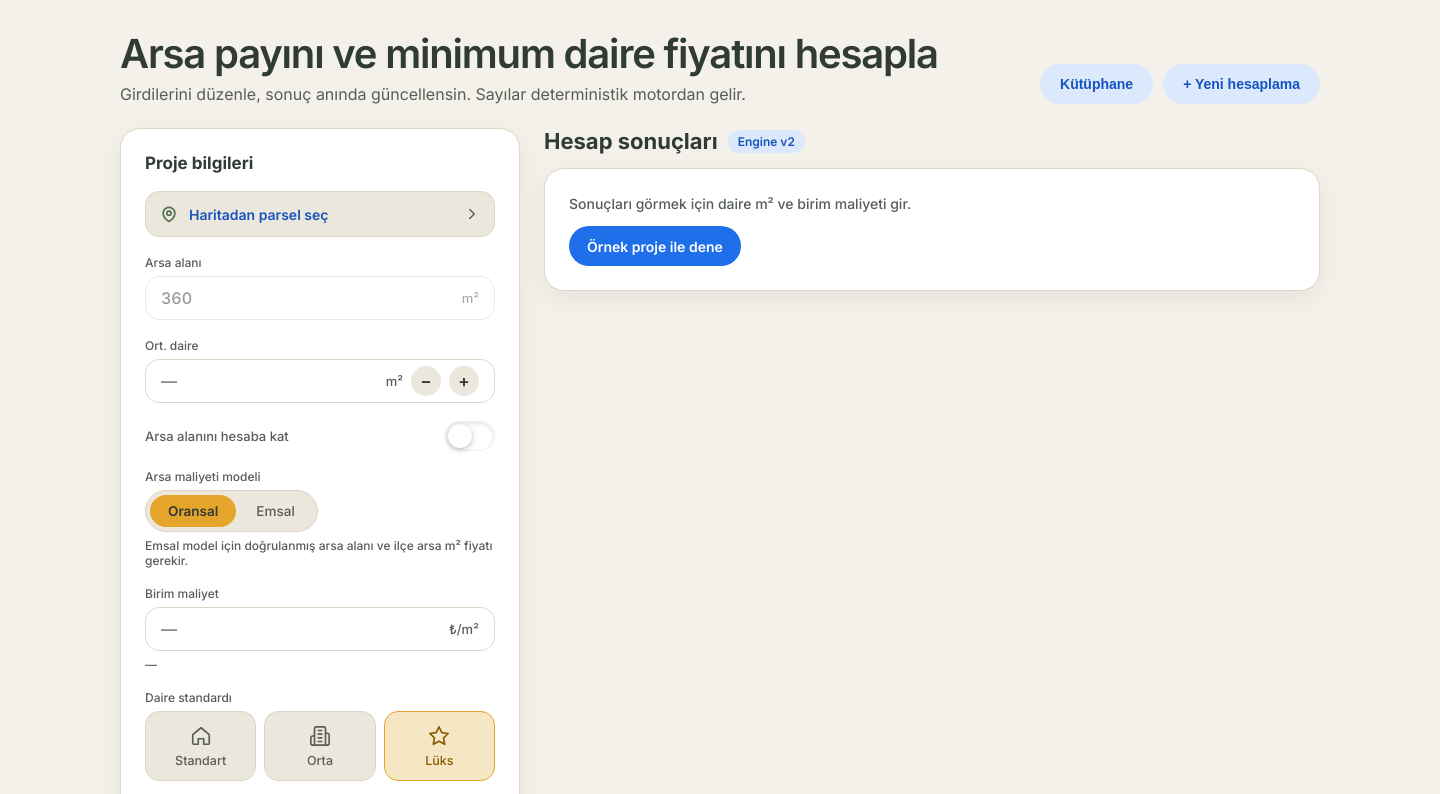
it: /hesapla — masaüstü Maksimum Sürdürülebilir Arsa Payı (denetim bulgusu C6) › x_max negatifse ("bu fiyata proje mümkün değil") yüzde yerine anlaşılır bir uyarı gösterir, cam sayı DEĞİL
Click the button "Örnek proje ile dene".
click(655, 246)  # box [569,226,741,266]
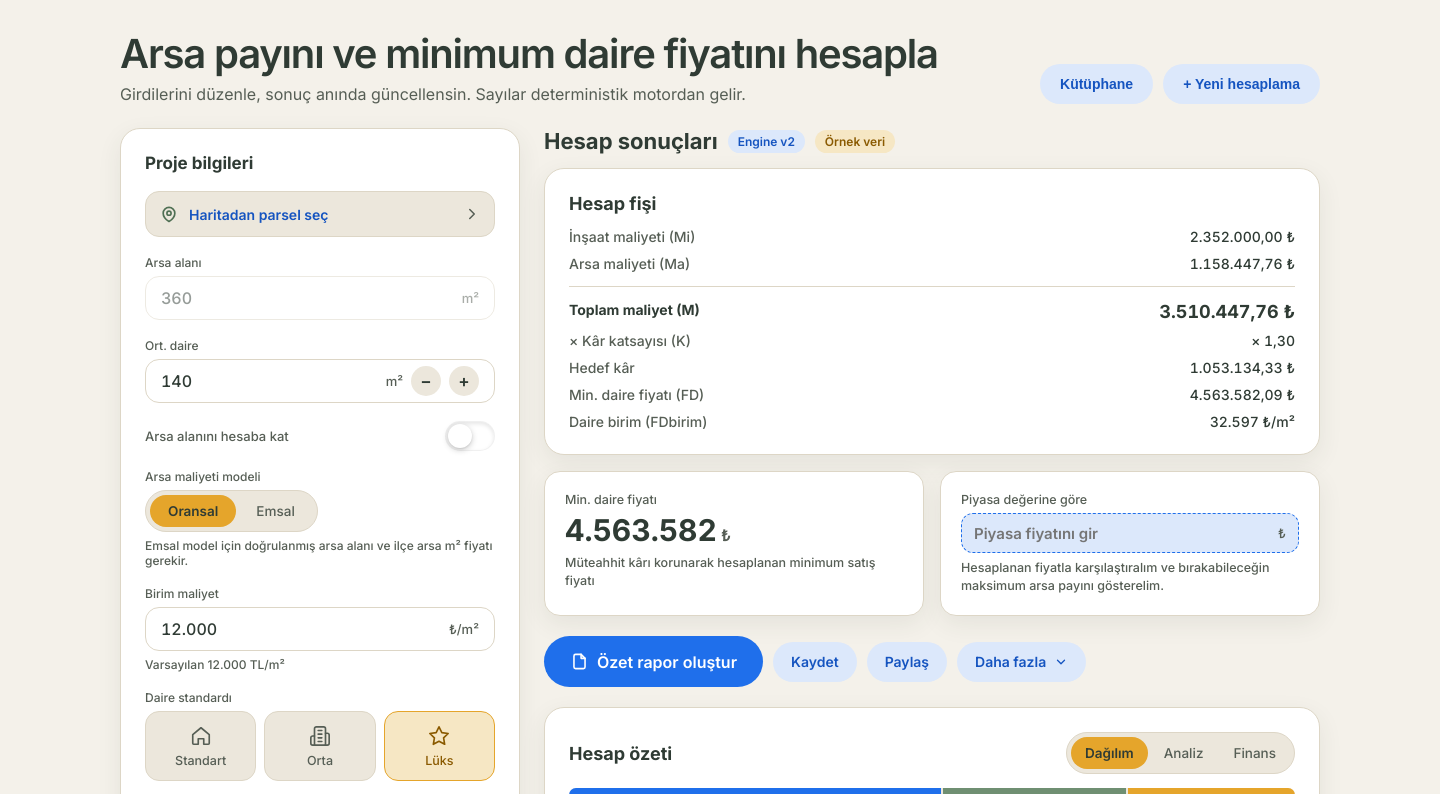
Type "1" into the field named "Yaklaşık Piyasa Fiyatı".
click(1122, 533); type("1")  # box [974,524,1270,542]
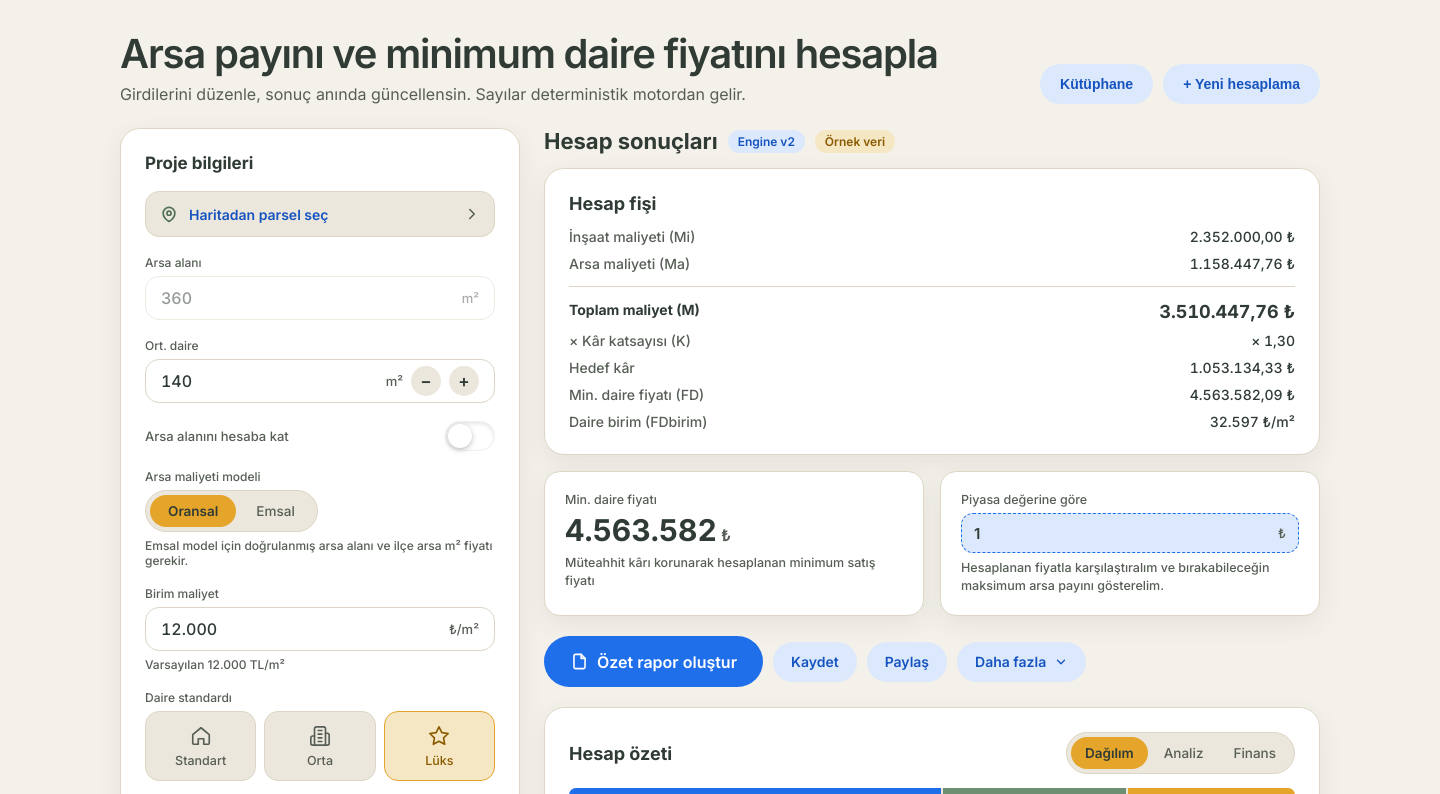
Press Enter
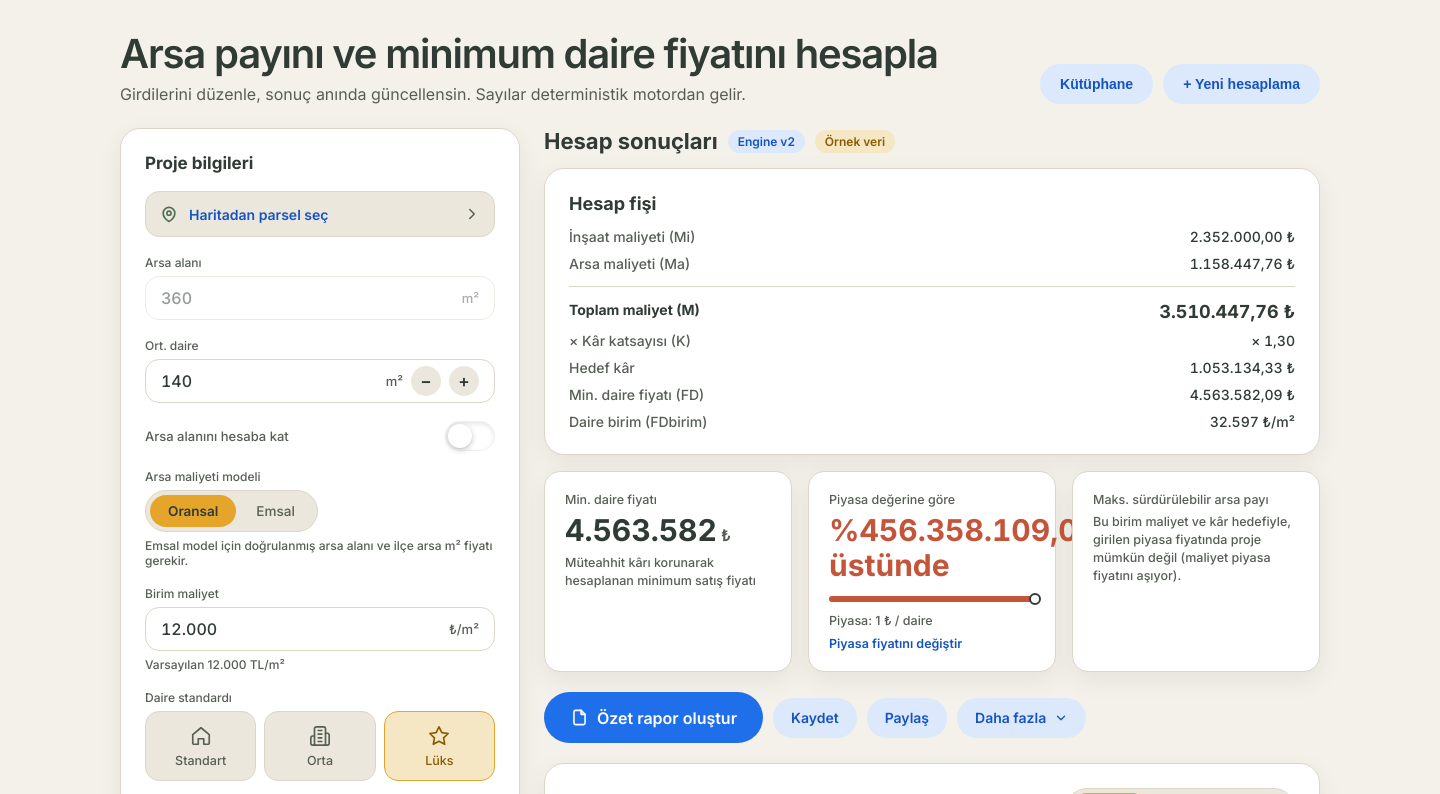
Expected: the text "mümkün değil" is shown, [1093,514,1291,583]
